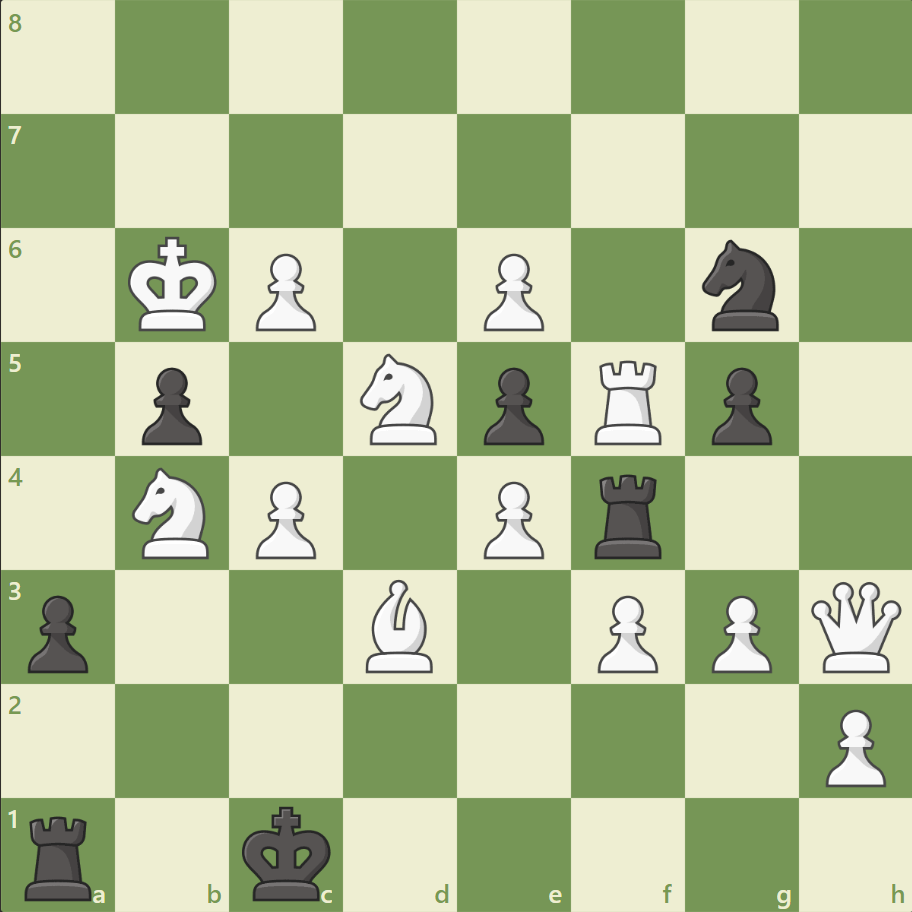B: (358, 574, 442, 676)
K: (124, 231, 224, 339)
N: (124, 461, 222, 564), (351, 348, 449, 450)
P: (247, 246, 322, 337), (474, 246, 549, 337), (247, 473, 322, 564), (474, 473, 549, 564), (701, 586, 776, 677), (588, 586, 662, 677), (815, 700, 889, 791)
Q: (805, 576, 904, 676)
R: (587, 352, 670, 449)
k: (238, 798, 338, 906)
n: (692, 234, 789, 337)
p: (133, 359, 208, 450), (474, 359, 549, 450), (701, 359, 776, 450), (20, 586, 95, 677)
r: (19, 806, 102, 904), (587, 466, 670, 563)
